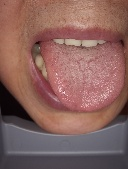tongue: (40, 50, 127, 112)
